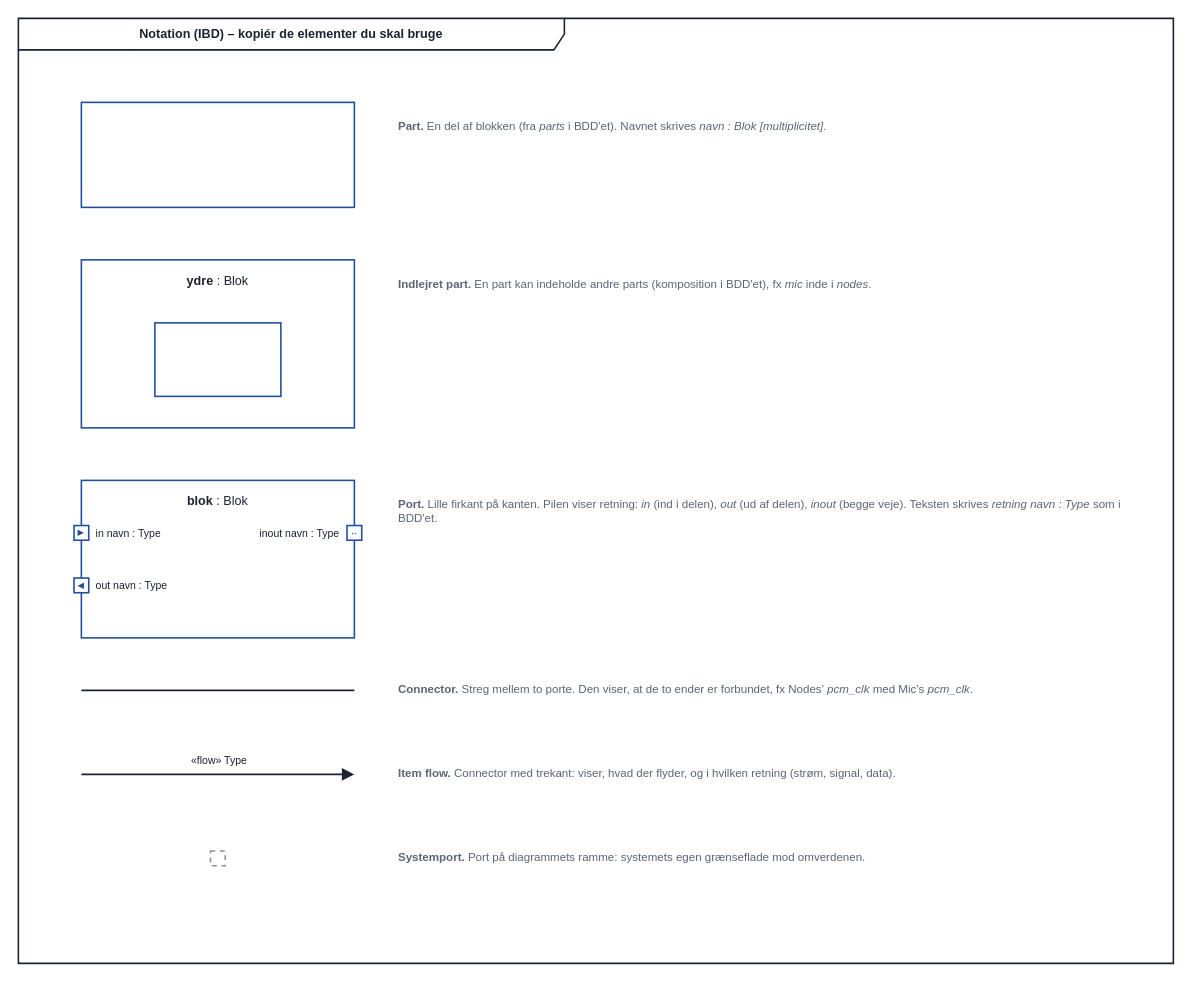
Image size: 1193x983. Some labels were removed from this diagram. The shapes that lost their labels are listed below. From the top down, each one's centre as x and y in pixels, then its label:
At pixel 217 154: "navn : Blok [mult]".
At pixel 217 359: "indre : Blok".
